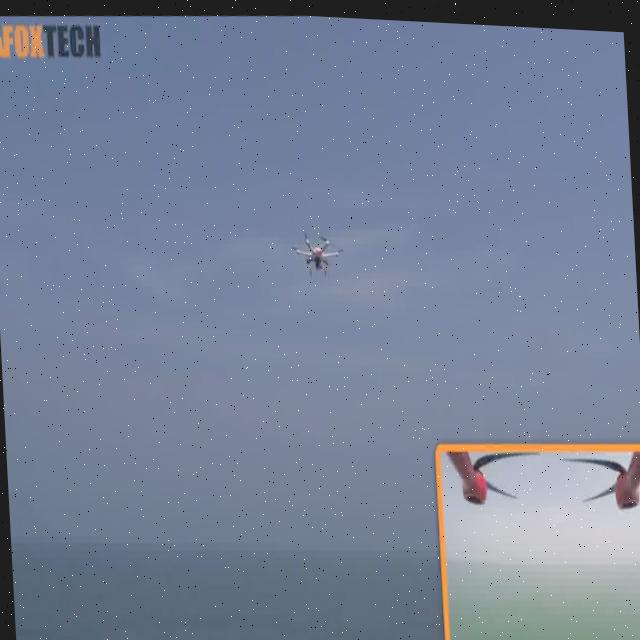drone: (287, 213, 348, 290)
